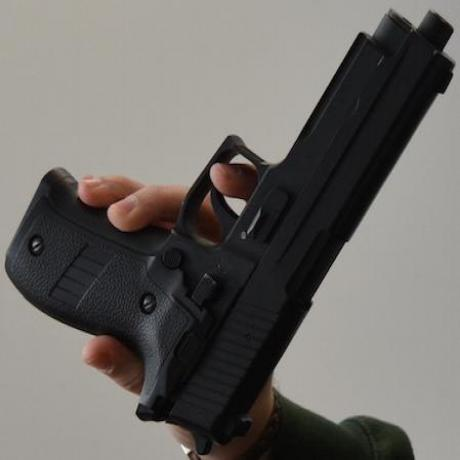weapon: (6, 0, 460, 445)
